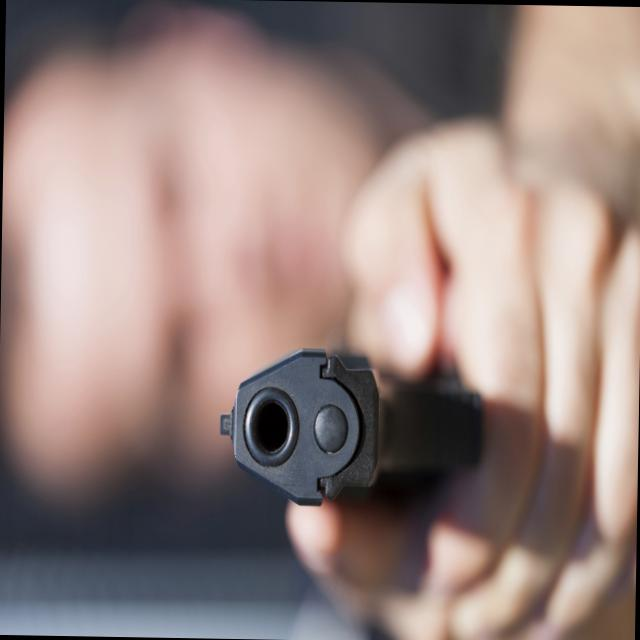handgun: (216, 337, 483, 530)
